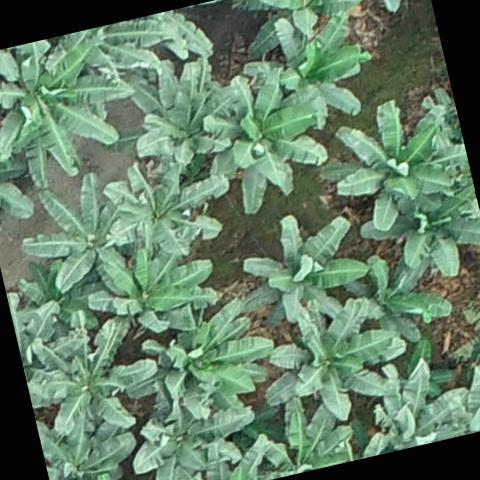Banana-plant: (112, 296, 284, 428), (0, 27, 137, 183), (197, 55, 330, 214), (252, 299, 403, 427), (323, 91, 455, 237), (234, 202, 378, 328), (94, 147, 238, 268), (19, 322, 164, 442), (264, 6, 382, 132), (357, 168, 480, 285), (88, 239, 224, 342), (21, 180, 136, 296), (114, 59, 228, 176), (358, 344, 474, 454), (124, 391, 264, 480), (345, 244, 452, 341), (242, 394, 362, 480), (3, 255, 101, 350), (36, 404, 146, 480), (251, 0, 370, 45)
